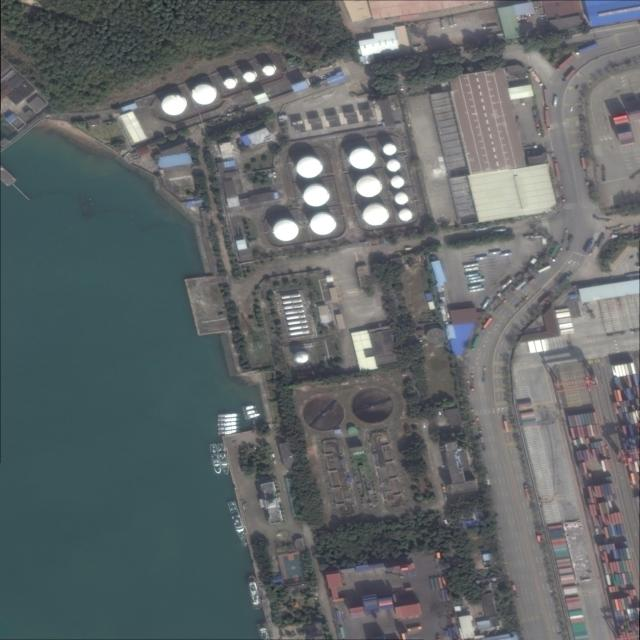large-vehicle: (529, 68, 544, 87), (557, 55, 575, 70), (576, 43, 598, 54), (515, 296, 530, 310), (493, 299, 507, 312), (552, 247, 564, 262), (563, 69, 576, 82), (513, 281, 527, 293), (553, 159, 561, 179), (481, 318, 493, 331), (585, 239, 595, 253), (472, 336, 481, 350), (545, 111, 551, 131), (501, 279, 513, 289), (580, 153, 587, 169), (503, 418, 510, 433), (538, 265, 551, 273), (562, 230, 569, 244), (524, 485, 531, 499), (560, 186, 566, 202), (482, 299, 491, 309), (463, 263, 479, 268), (469, 284, 482, 290), (483, 25, 498, 30), (470, 288, 485, 293), (465, 267, 479, 272), (448, 17, 454, 28), (470, 279, 485, 283), (553, 97, 558, 108), (468, 276, 481, 280), (466, 273, 479, 277), (440, 19, 445, 29), (452, 16, 457, 26), (476, 256, 488, 260), (490, 251, 502, 255), (500, 253, 512, 257), (471, 375, 474, 391)
ship: (227, 501, 248, 545), (247, 575, 263, 610), (217, 443, 231, 476), (209, 444, 223, 475), (218, 430, 241, 436), (218, 417, 241, 423), (218, 426, 241, 431), (218, 413, 241, 418), (245, 413, 261, 420), (218, 422, 240, 427), (243, 409, 258, 416), (242, 404, 257, 411)
storage-tank: (350, 148, 375, 170), (310, 214, 336, 235), (273, 221, 299, 242), (297, 157, 323, 178), (356, 177, 381, 198), (363, 205, 388, 226), (304, 186, 329, 207), (161, 95, 186, 115), (192, 85, 216, 105), (426, 329, 447, 345), (294, 351, 308, 363), (383, 144, 397, 155), (391, 177, 405, 188), (387, 161, 400, 172), (399, 210, 412, 221), (243, 72, 255, 83), (224, 78, 236, 89), (395, 194, 408, 204), (263, 66, 275, 76)
